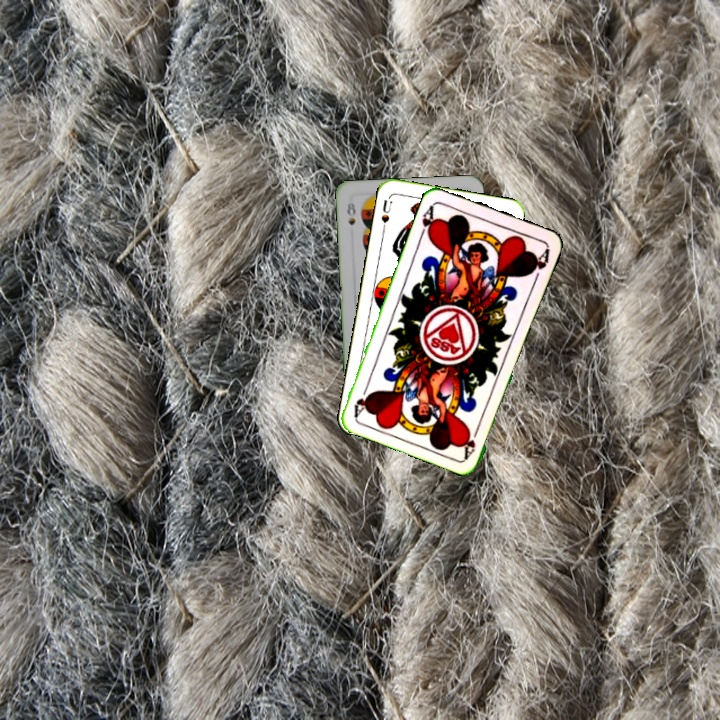HA: (416, 201, 439, 241), (460, 421, 483, 460)
S8: (343, 199, 358, 228)
SU: (377, 195, 394, 233)
